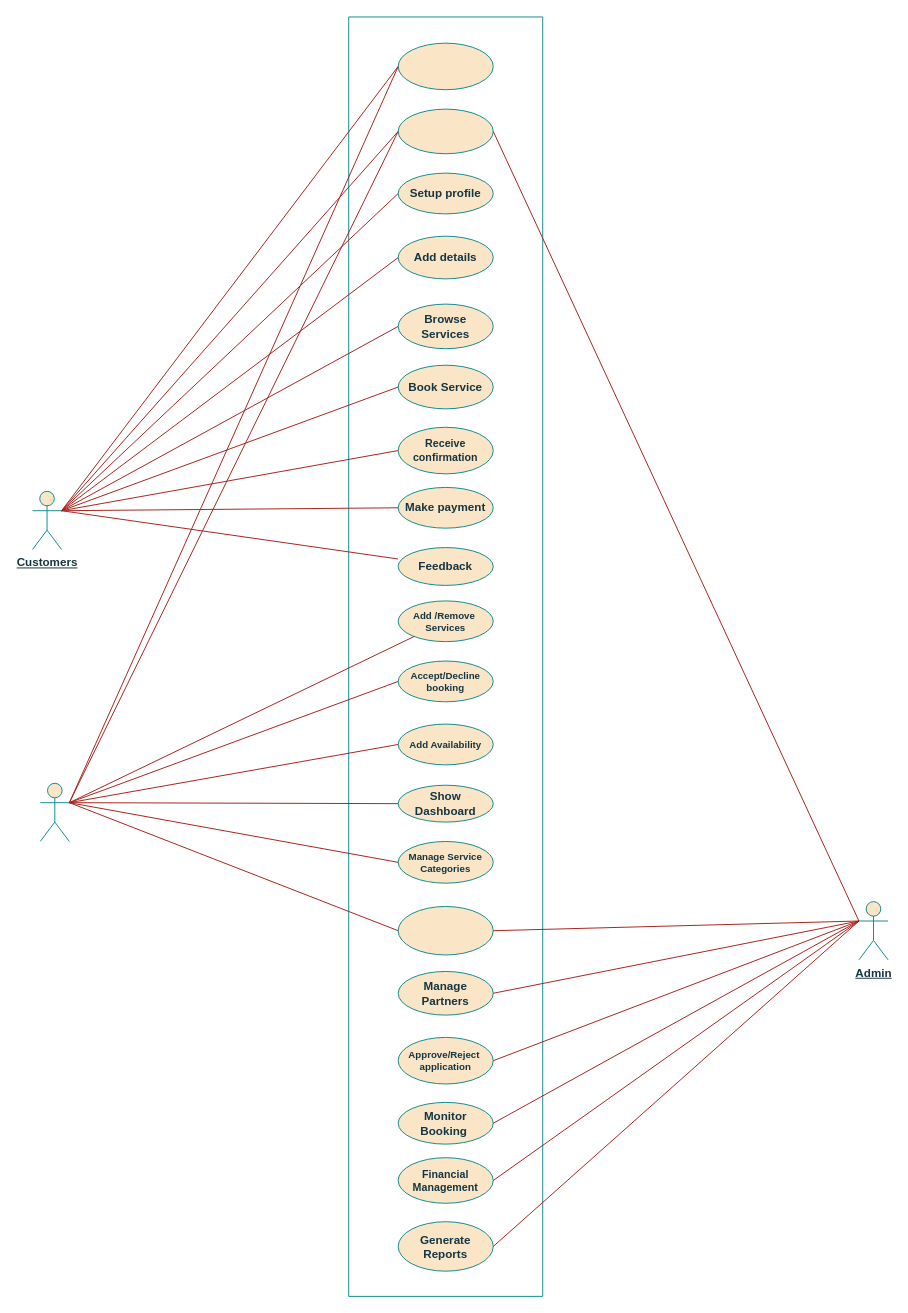
Some shapes in this 908 by 1313 pixel diagram are drawn without their labels. The box of each missing label's shape, as (x1, y1, x2, y2) in pixels:
Login: (397, 108, 493, 154)
Modify Service Rates: (397, 905, 493, 955)
Partners: (39, 782, 69, 841)
Signup: (397, 42, 493, 90)
